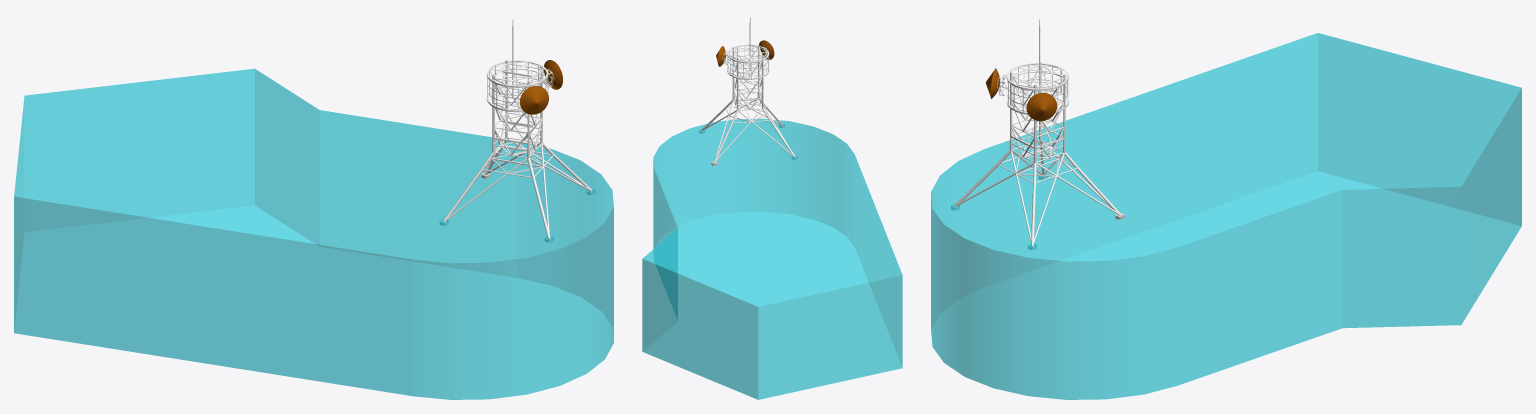
Rendered from ang羽地ダム.glb.
3 renders of one model, left to right at view 1: azimuth 30°, elevation 25°; view 2: azimuth 150°, elevation 25°; view 3: azimuth 270°, elevation 25°, orthographic. The views are drawn at different scales.
Visible parts, largest first — view 1: group_33.003, group_33.004, group_6, group_70.001; view 2: group_33.003, group_33.004, group_70.001; view 3: group_33.003, group_33.004, group_6.004, group_70.001.
Part boxes in pixels (x1,y1,x2,y2): group_33.003: [14, 69, 613, 399]; group_33.004: [14, 68, 613, 263]; group_6: [520, 86, 548, 114]; group_70.001: [489, 61, 545, 85]; group_33.003: [642, 119, 902, 399]; group_33.004: [643, 118, 902, 306]; group_70.001: [728, 45, 767, 61]; group_33.003: [931, 33, 1521, 399]; group_33.004: [931, 33, 1521, 261]; group_6.004: [1027, 93, 1056, 120]; group_70.001: [1011, 63, 1064, 88].
Bounding box in the file's own units: 35.8 × 24.5 × 39.08.
